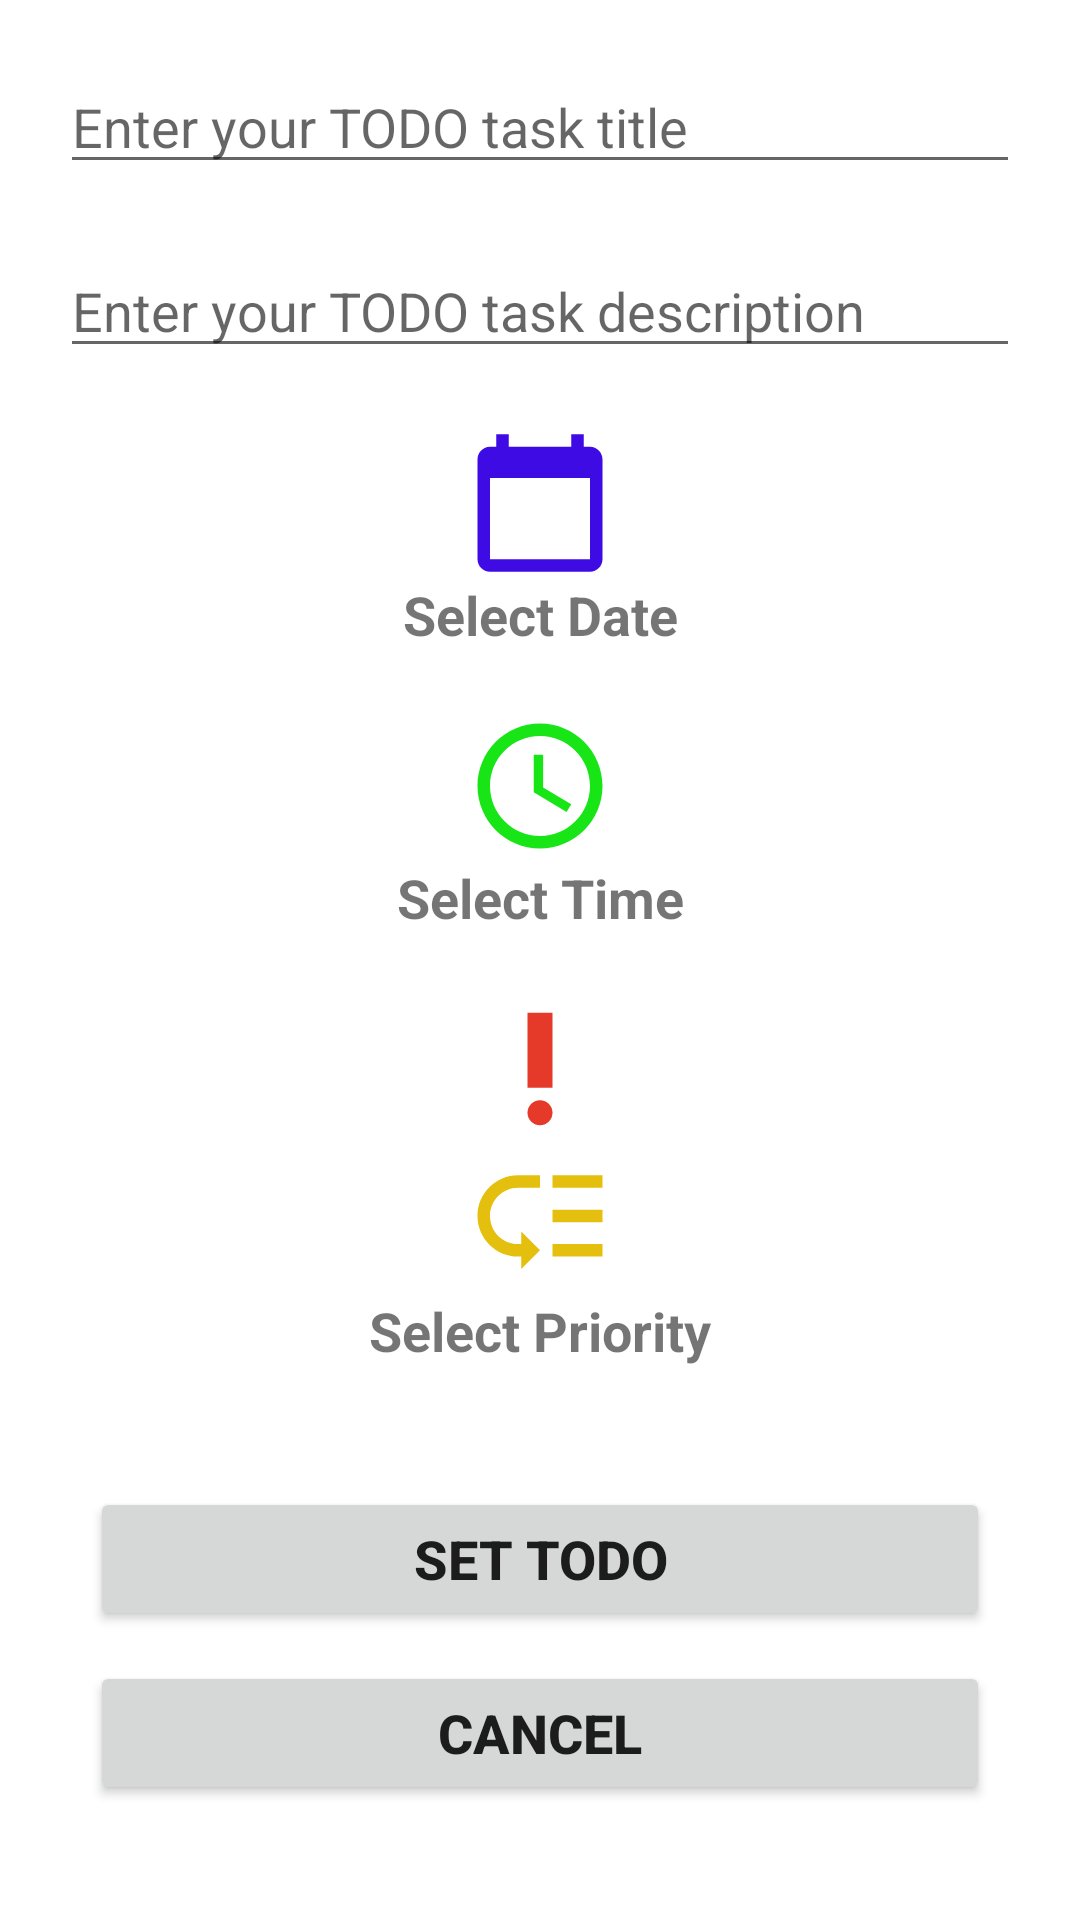

Where to tap for icons on this 1080 x 1920 app screen, as (x=x, y=y):
calendar: (x=540, y=503)
high priority: (x=540, y=1069)
low priority: (x=540, y=1222)
